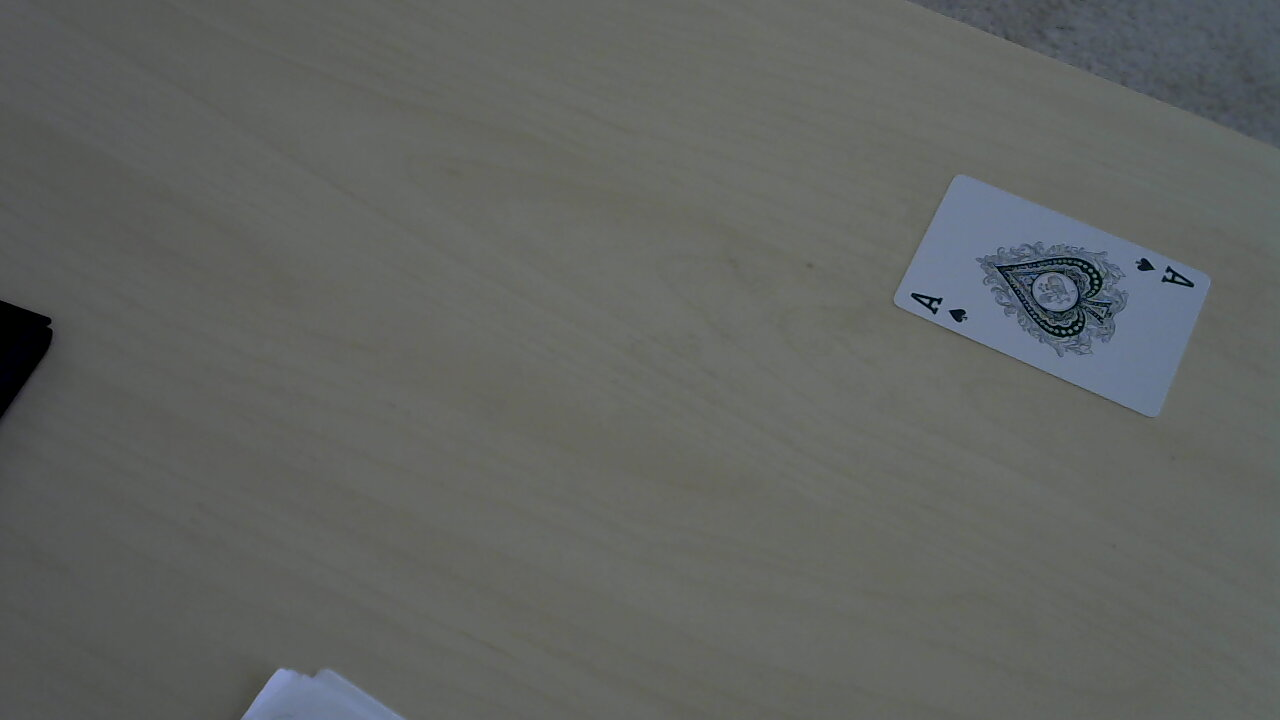one: (911, 239, 1196, 359)
